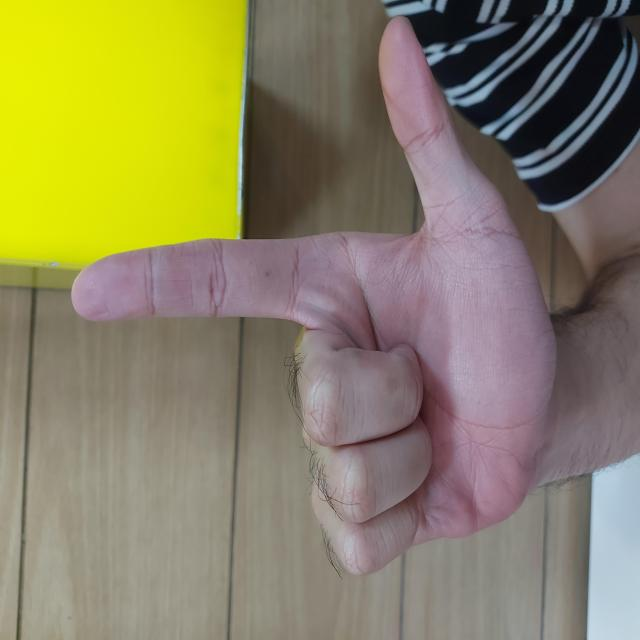L: (62, 68, 626, 558)
